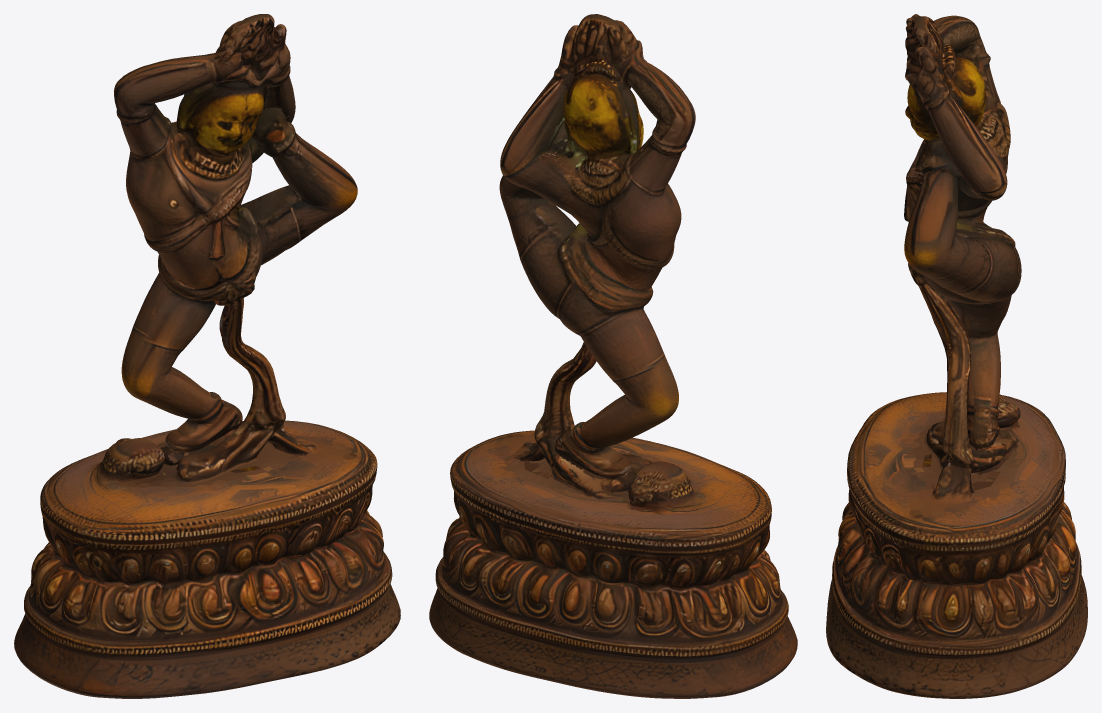
3 views of the same model, side by side, from view 1: azimuth 30°, elevation 25°; view 2: azimuth 150°, elevation 25°; view 3: azimuth 270°, elevation 25° (orthographic). The views are drawn at different scales.
Visible parts, largest first — view 1: textured_mesh; view 2: textured_mesh; view 3: textured_mesh.
Boxes of the visible parts, box(x1,y1,x2,y2) form: textured_mesh: box(14, 14, 400, 698); textured_mesh: box(429, 14, 797, 698); textured_mesh: box(826, 14, 1087, 698).
Size of the model in its own units: 1.16 by 1.99 by 0.7715.
Materials: 1 (1 with a texture image).
